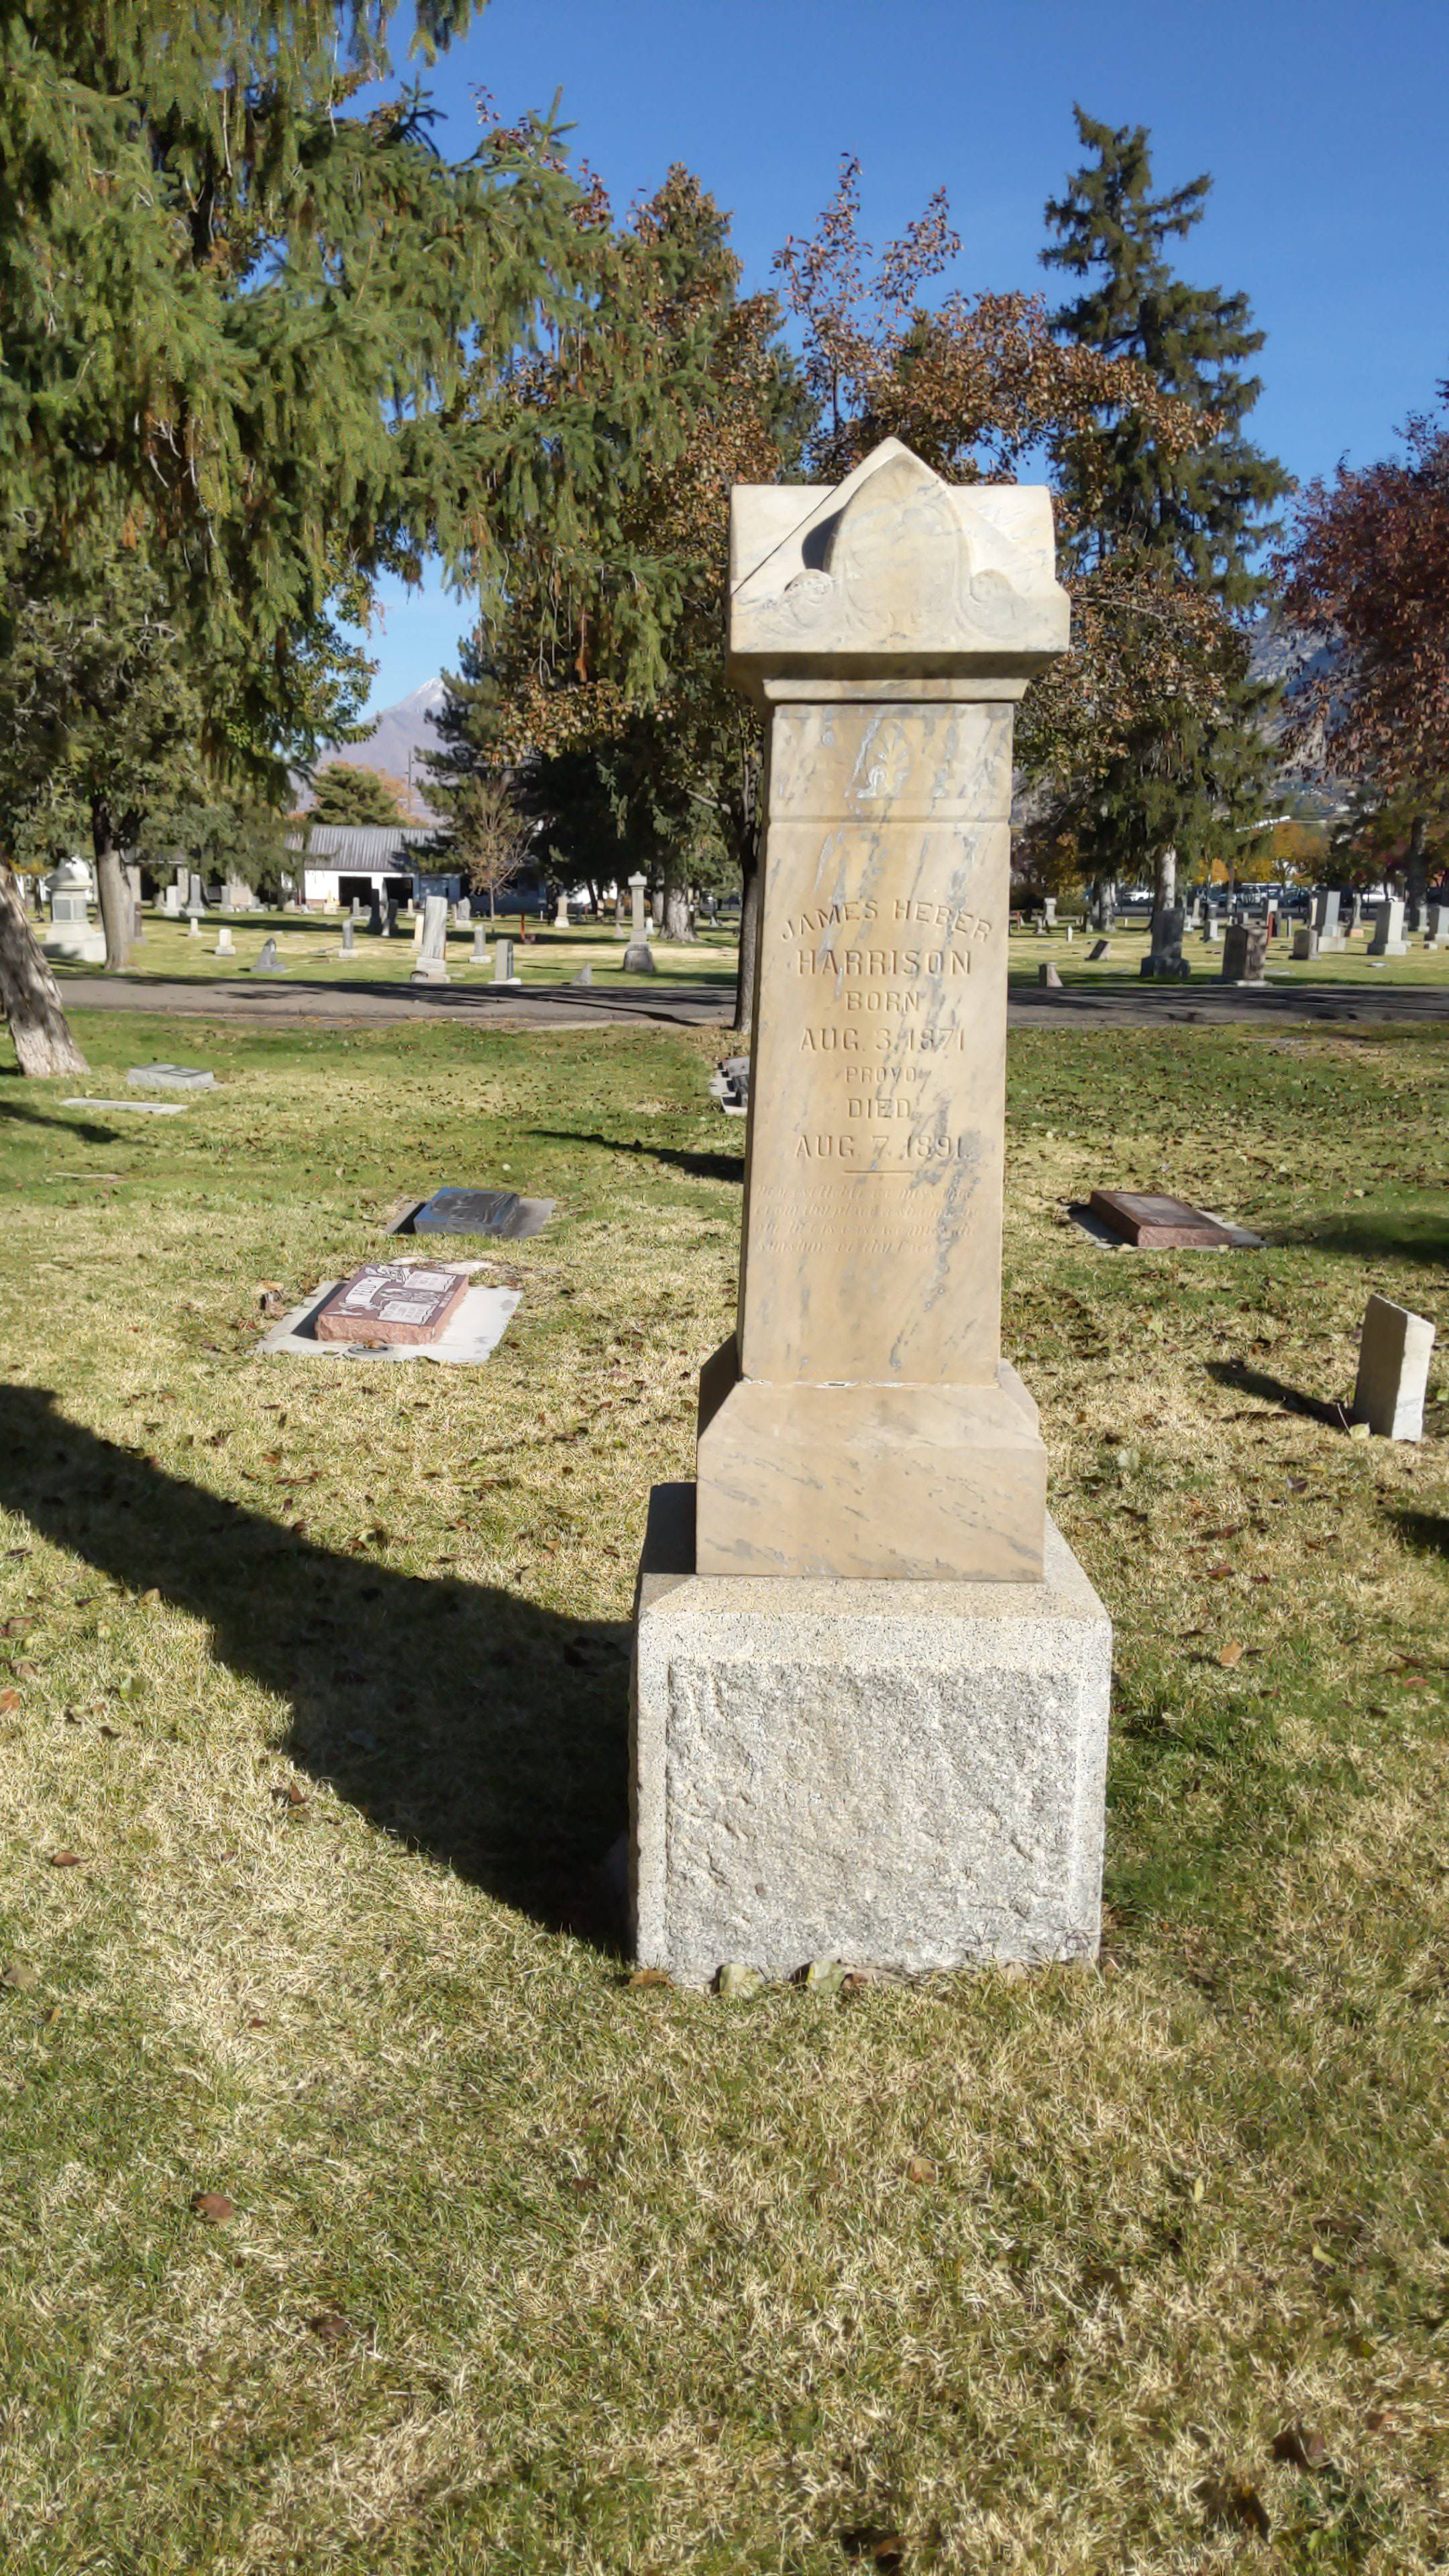obelisk: (694, 449, 1046, 1569)
